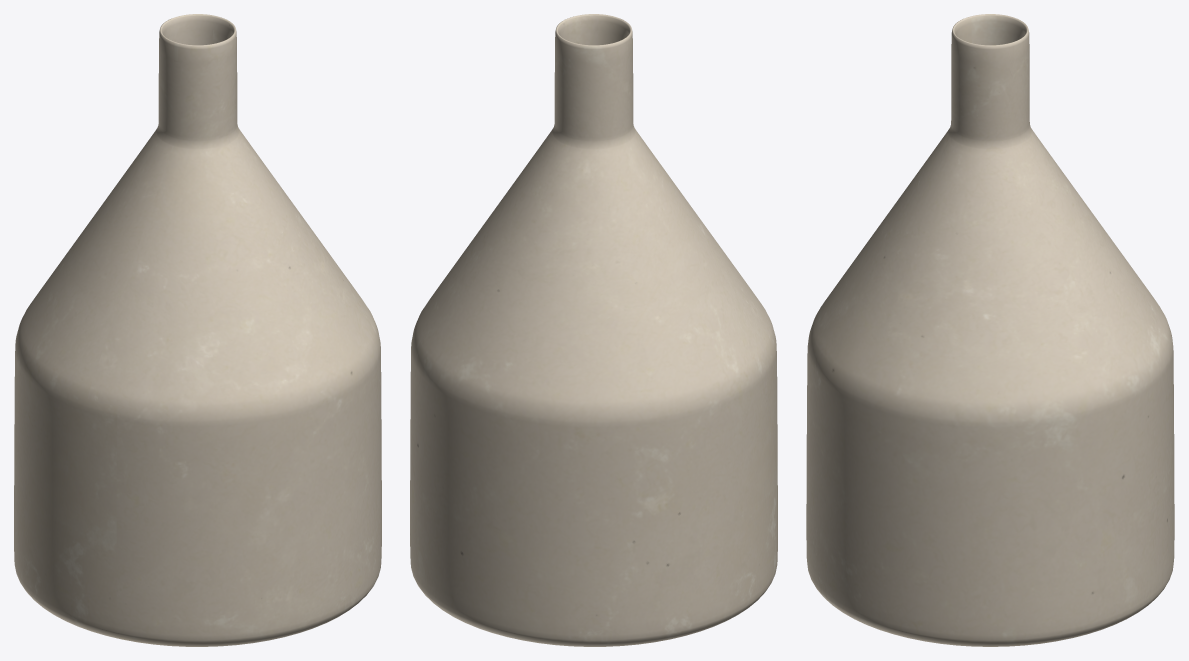
The model's file is Scultura2.fbx.
3 renders of one model, left to right at view 1: azimuth 30°, elevation 25°; view 2: azimuth 150°, elevation 25°; view 3: azimuth 270°, elevation 25°, orthographic.
Visible parts, largest first — view 1: Scultura2; view 2: Scultura2; view 3: Scultura2.
Boxes of the visible parts, x1=… form: Scultura2: x1=14, y1=14, x2=381, y2=646; Scultura2: x1=410, y1=14, x2=777, y2=646; Scultura2: x1=806, y1=14, x2=1174, y2=646.
Bounding box in the file's own units: 35.2 × 58.94 × 35.2.
